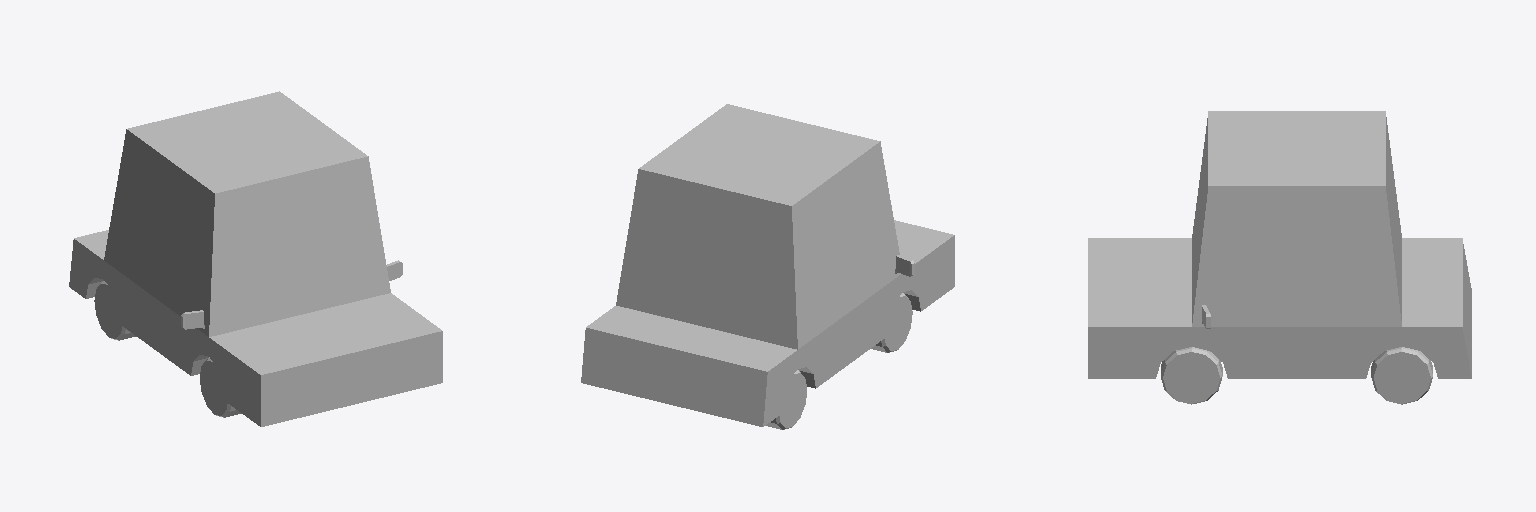
File: car.obj
The picture shows the model from 3 angles: view 1: azimuth 30°, elevation 25°; view 2: azimuth 150°, elevation 25°; view 3: azimuth 270°, elevation 25°; orthographic projection.
Parts seen in each view (by area): view 1: car, wheel_3, wheel_4; view 2: car, wheel_3, wheel_4; view 3: car, wheel, wheel_2.
Part boxes in pixels (x1,y1,x2,y2): car: (69, 91, 442, 426); wheel_3: (200, 357, 241, 417); wheel_4: (94, 281, 136, 340); car: (581, 104, 954, 426); wheel_3: (871, 293, 912, 352); wheel_4: (766, 370, 806, 429); car: (1088, 111, 1471, 378); wheel: (1371, 347, 1432, 404); wheel_2: (1161, 347, 1222, 404).
Bounding box in the file's own units: 242 × 225 × 365.